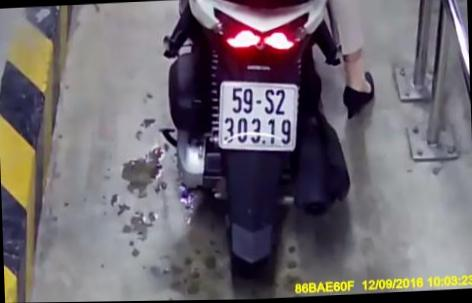LP: (215, 75, 302, 156)
